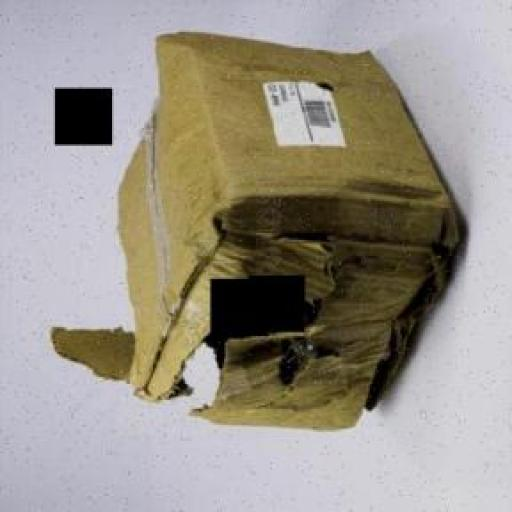box: (118, 31, 462, 435)
